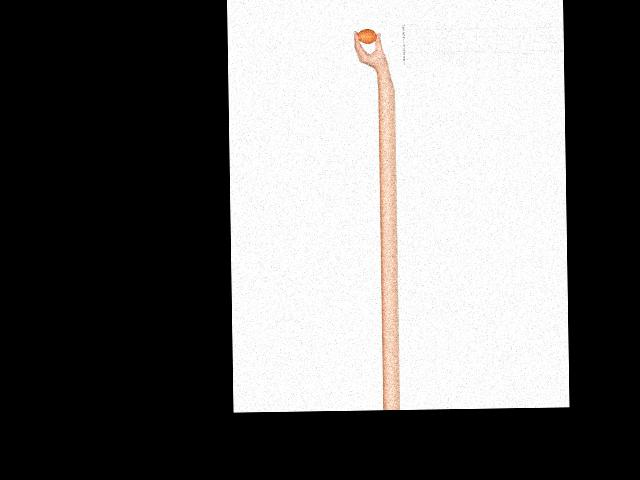egg: (357, 28, 377, 43)
